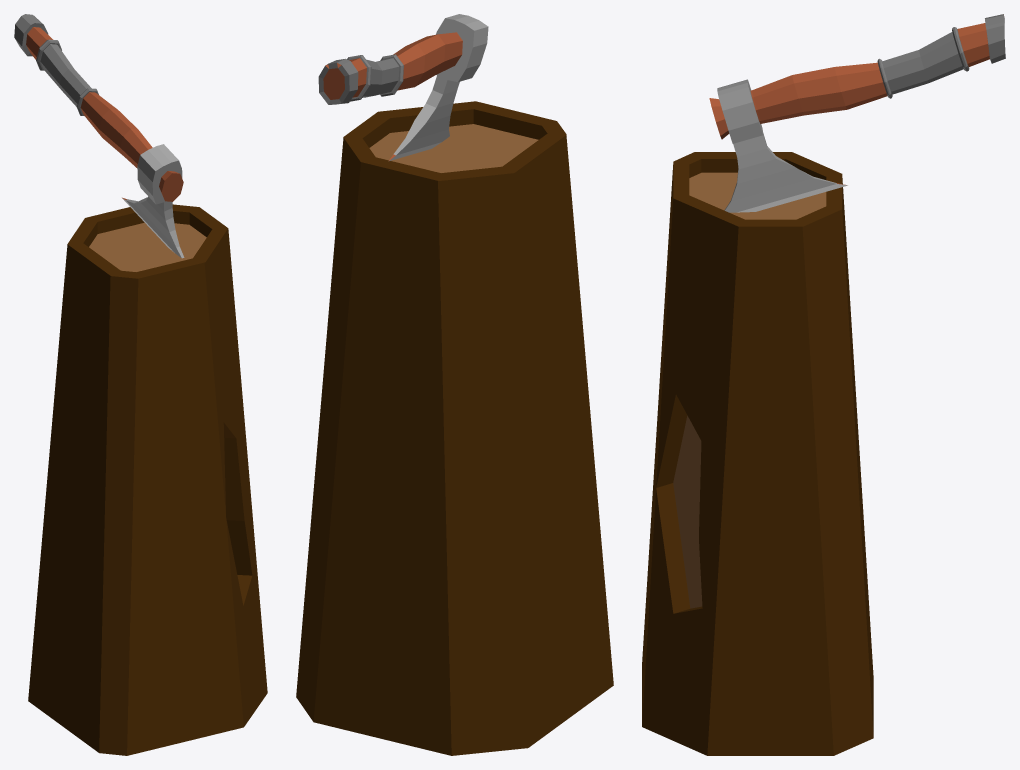
The model's file is cortado.fbx.
3 renders of one model, left to right at view 1: azimuth 30°, elevation 25°; view 2: azimuth 150°, elevation 25°; view 3: azimuth 270°, elevation 25°, orthographic. The views are drawn at different scales.
Parts seen in each view (by area): view 1: Cube.001; view 2: Cube.001; view 3: Cube.001.
Boxes of the visible parts, x1,y1,x2,y2 form: Cube.001: [14, 14, 267, 755]; Cube.001: [296, 14, 613, 755]; Cube.001: [642, 14, 1005, 755].
Bounding box in the file's own units: 144 × 447 × 216.
